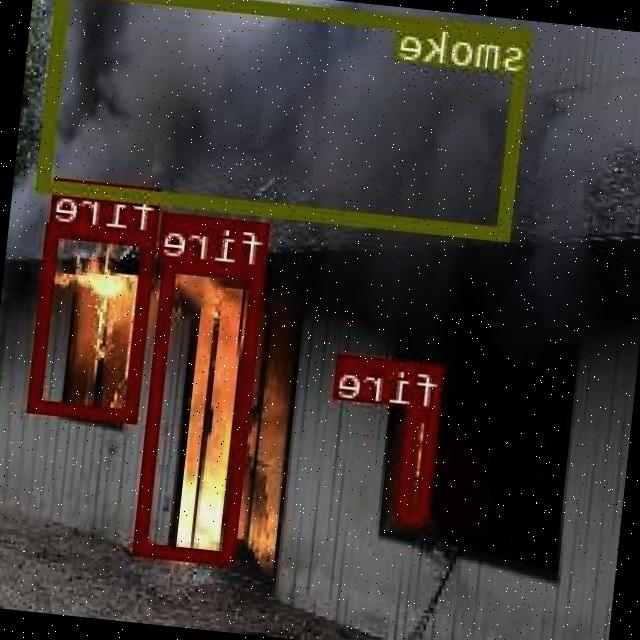fire: (136, 256, 266, 562), (31, 222, 158, 420), (398, 405, 443, 524)
smoke: (38, 0, 533, 238)
